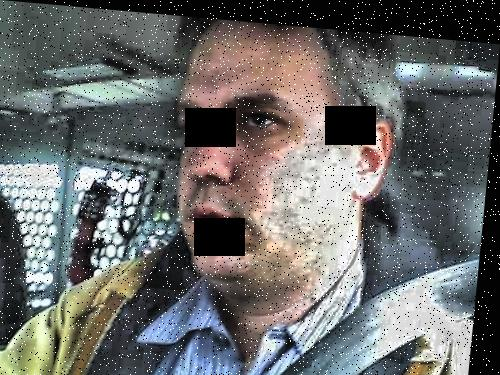seatbelt: (274, 244, 478, 375)
